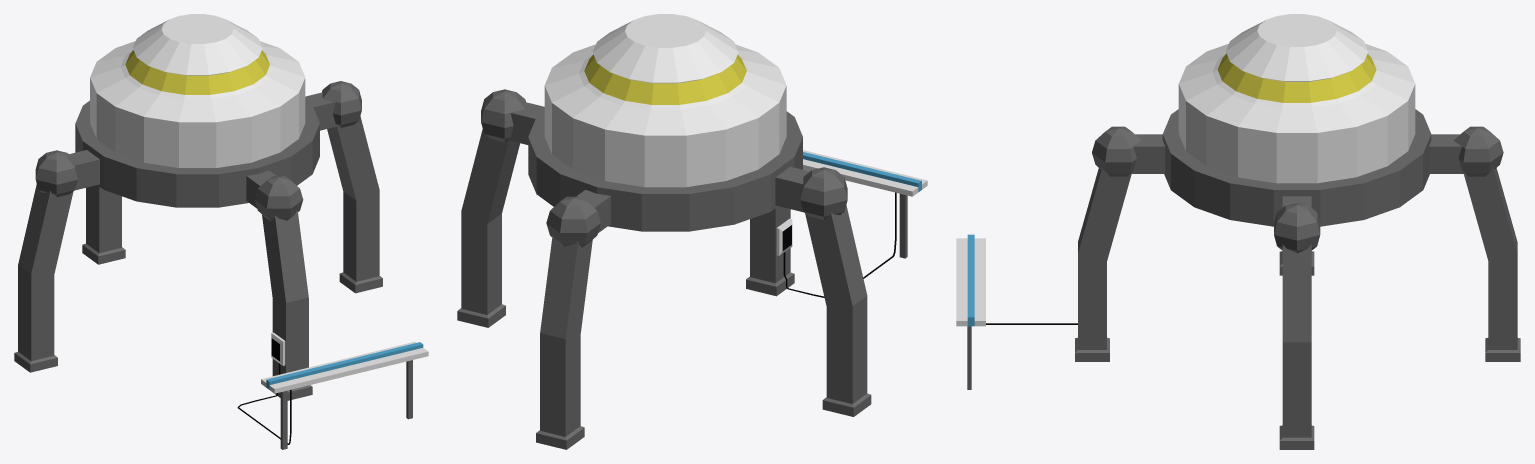
The model's file is BuildingHub.fbx.
3 views of the same model, side by side, from view 1: azimuth 30°, elevation 25°; view 2: azimuth 150°, elevation 25°; view 3: azimuth 270°, elevation 25° (orthographic). The views are drawn at different scales.
Visible parts, largest first — view 1: Building Hub; view 2: Building Hub; view 3: Building Hub.
Part boxes in pixels (x1,y1,x2,y2): Building Hub: (14,14,428,449); Building Hub: (457,14,927,449); Building Hub: (956,14,1520,449).
Bounding box in the file's own units: 379 × 303 × 477.
